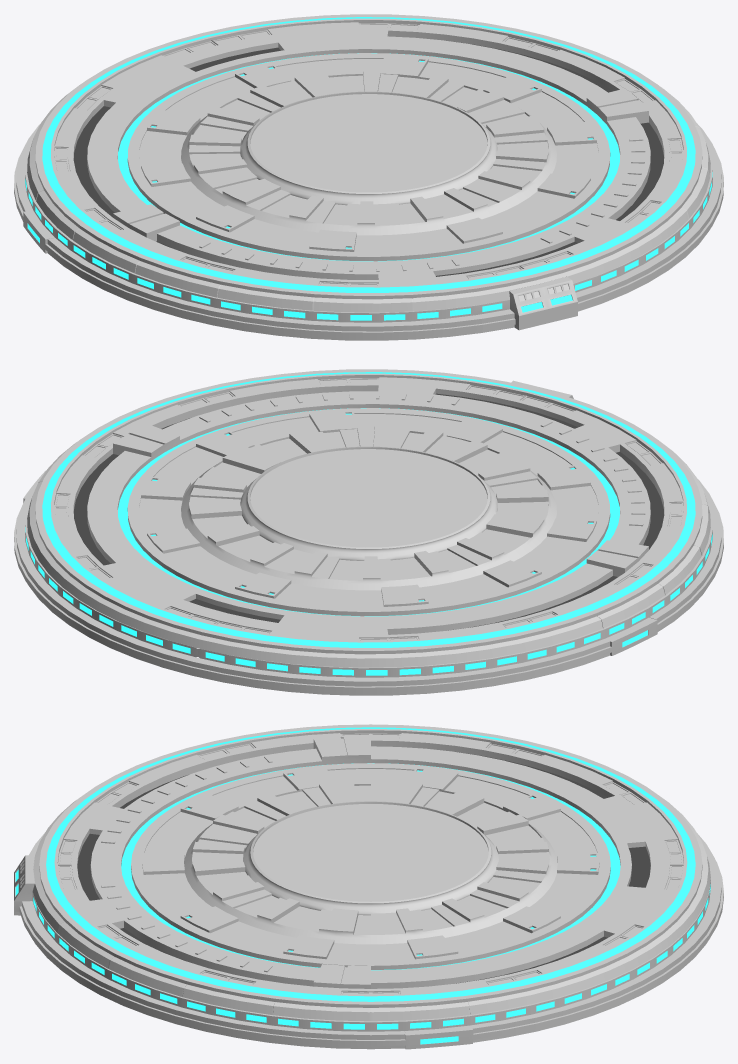
The model's file is ship-base.glb.
3 renders of one model, top to bottom at view 1: azimuth 30°, elevation 25°; view 2: azimuth 150°, elevation 25°; view 3: azimuth 270°, elevation 25°, orthographic.
Visible parts, largest first — view 1: OuterBase, CentralBase; view 2: OuterBase, CentralBase; view 3: OuterBase, CentralBase.
Part boxes in pixels (<box>): OuterBase: <box>14,14,723,340</box>; CentralBase: <box>181,71,556,235</box>; OuterBase: <box>14,369,723,695</box>; CentralBase: <box>181,426,556,590</box>; OuterBase: <box>14,724,723,1049</box>; CentralBase: <box>184,781,557,944</box>.
Bounding box in the file's own units: 4.7 × 0.3609 × 4.72.
